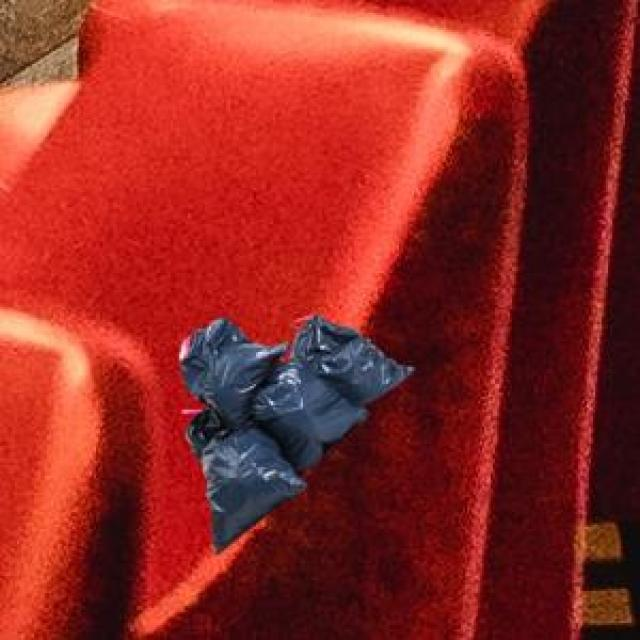miscellaneous trash: (177, 309, 410, 550)
